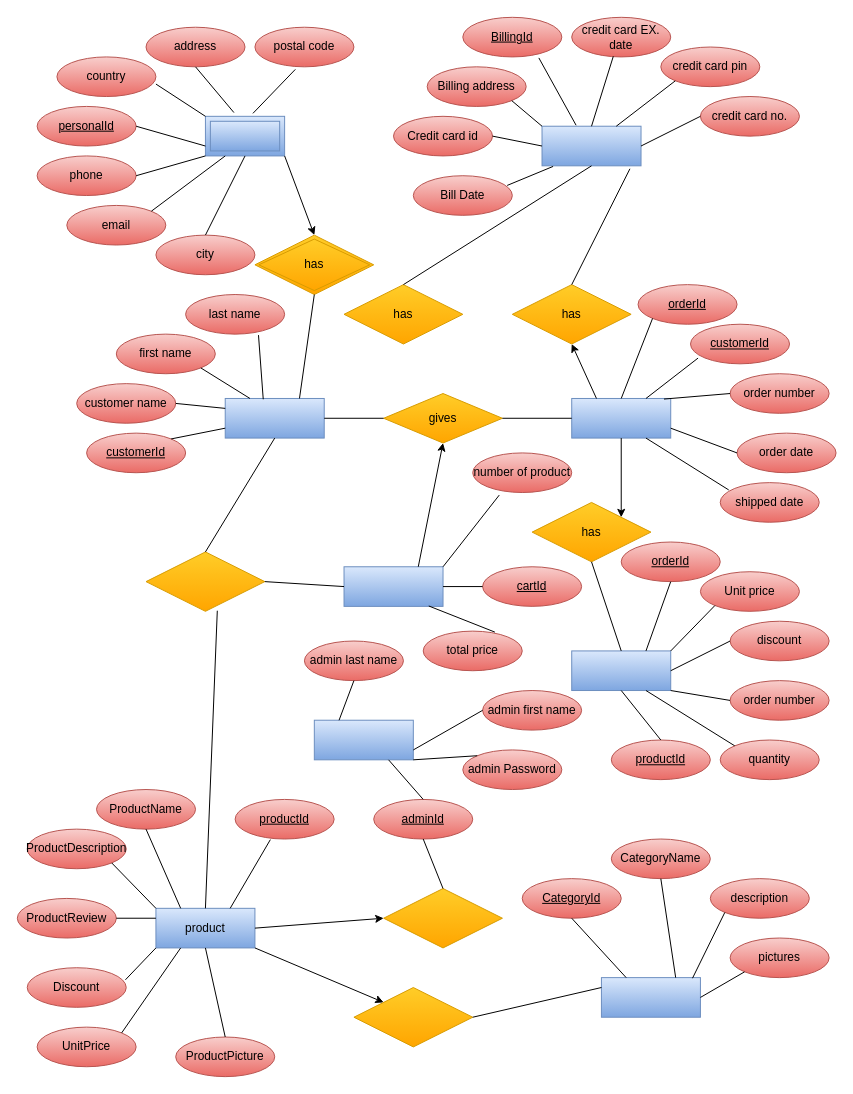
Some shapes in this 853 by 1094 pixel diagram are drawn without their labels. Each missing label, with the centre of its shape:
"adds" belongs at pixel 442 918.
"admin" belongs at pixel 363 739.
"belongs to" belongs at pixel 413 1017.
"Billing info" belongs at pixel 591 145.
"cart" belongs at pixel 393 586.
"category" belongs at pixel 650 997.
"customer" belongs at pixel 274 417.
"HasProductCart" belongs at pixel 205 581.
"order" belongs at pixel 621 417.
"order detail" belongs at pixel 621 670.
"personalinfo" belongs at pixel 244 135.
